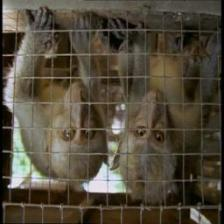monkey: (110, 80, 192, 198), (44, 80, 108, 175)
